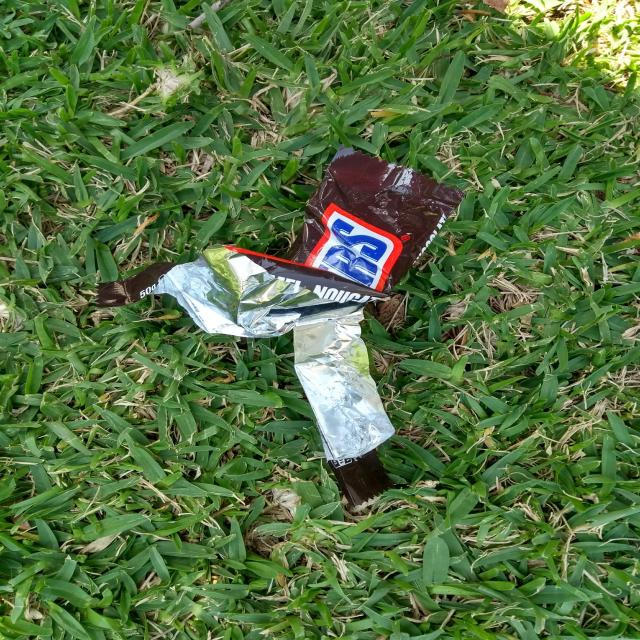litter: (94, 144, 466, 510)
